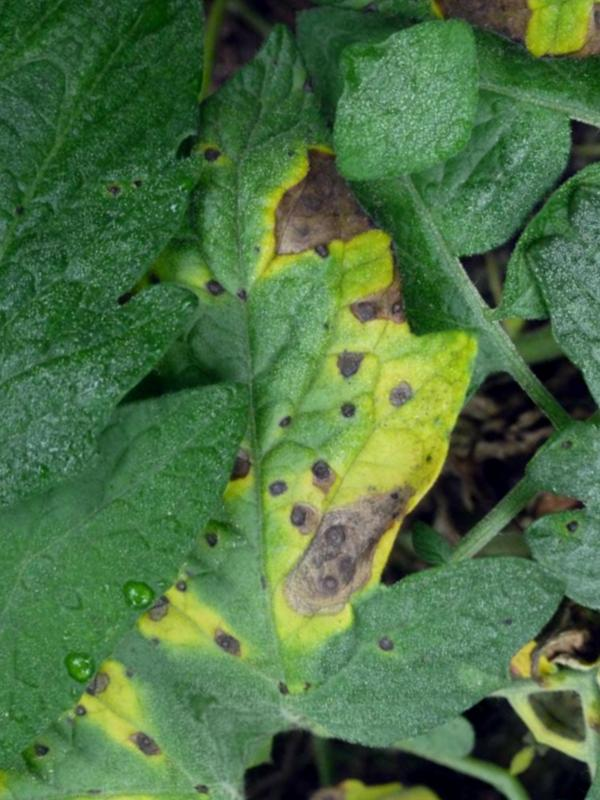Tomato Early blight leaf: (0, 18, 600, 720)
